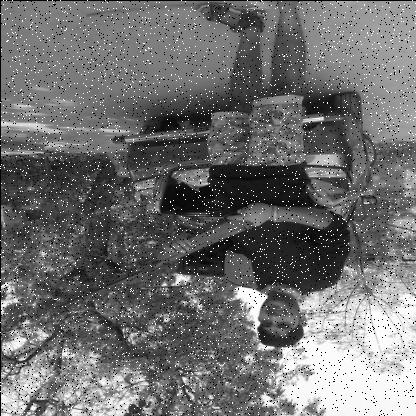rifle: (46, 202, 268, 312)
